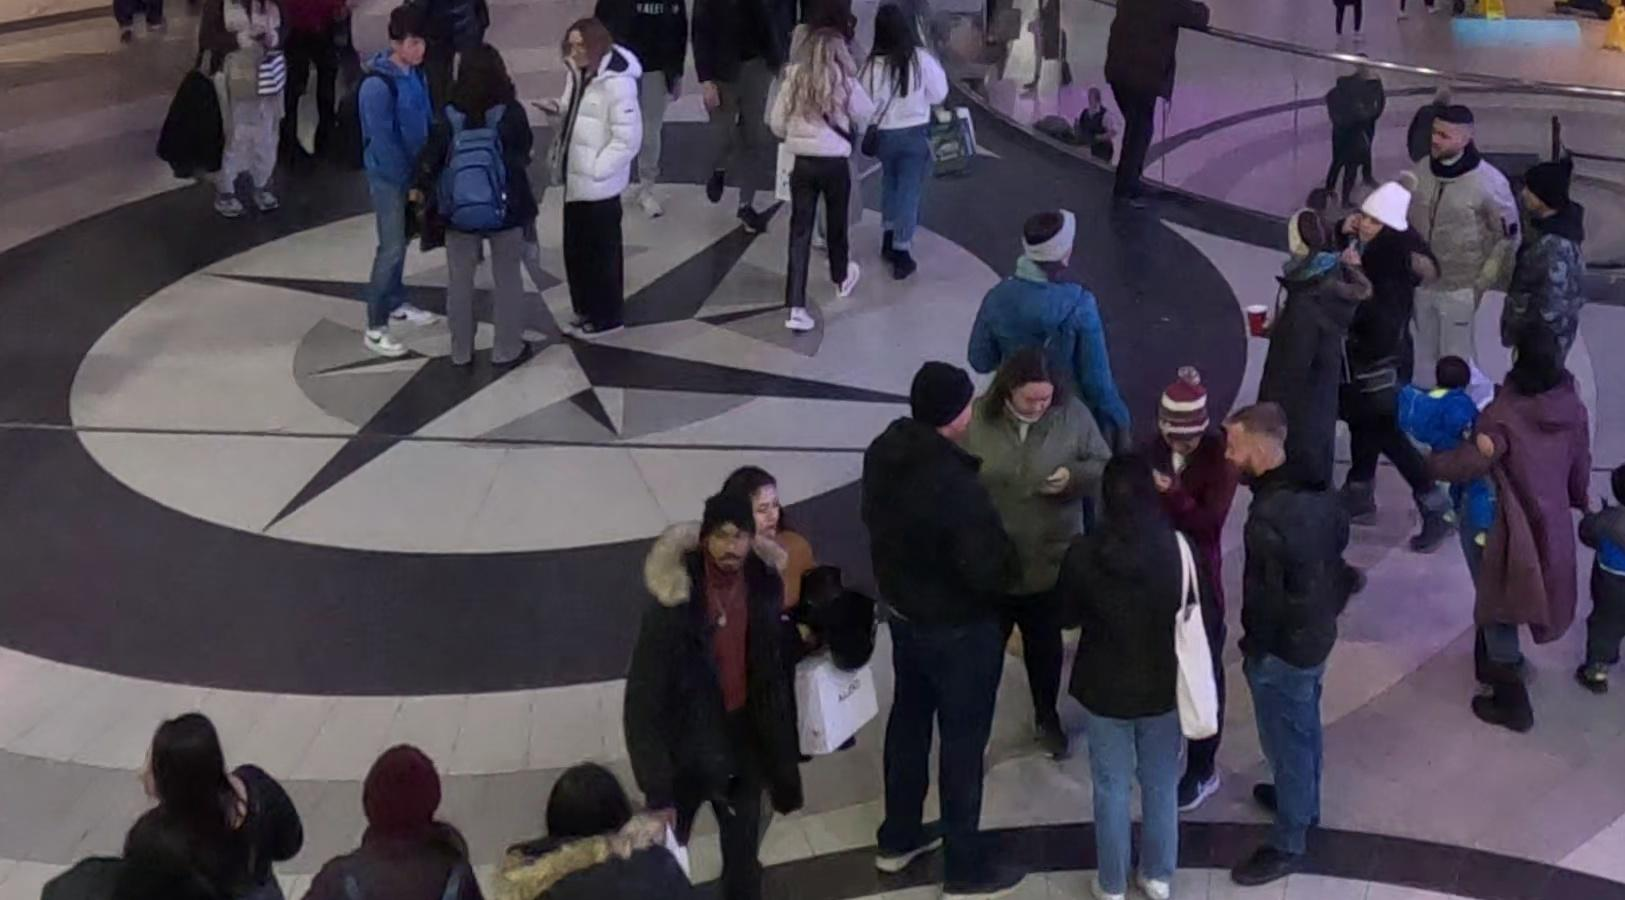person: (869, 346, 1021, 900), (617, 472, 796, 895), (1211, 399, 1357, 885), (1045, 436, 1194, 899), (1435, 311, 1589, 739), (1339, 175, 1469, 560), (967, 195, 1131, 445), (430, 28, 543, 372), (543, 8, 653, 354), (354, 16, 449, 371), (1397, 89, 1510, 355), (774, 31, 870, 317)
